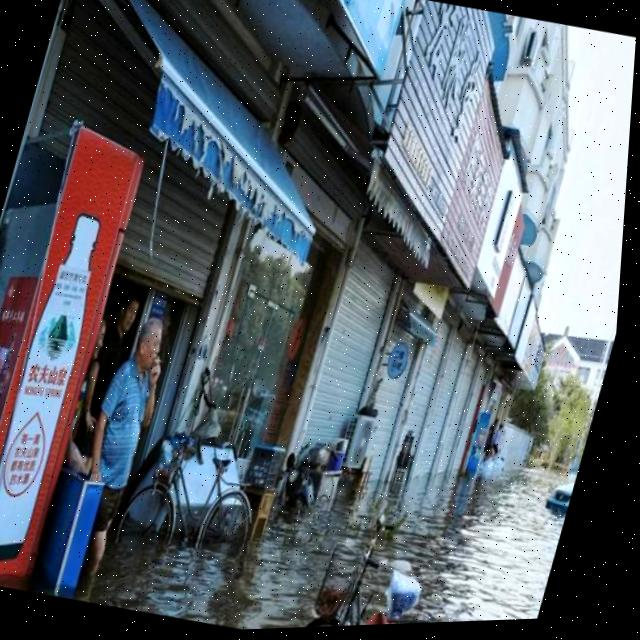civilian: (54, 314, 180, 606), (76, 284, 152, 443), (49, 310, 124, 469), (484, 407, 520, 468), (475, 409, 505, 470)
